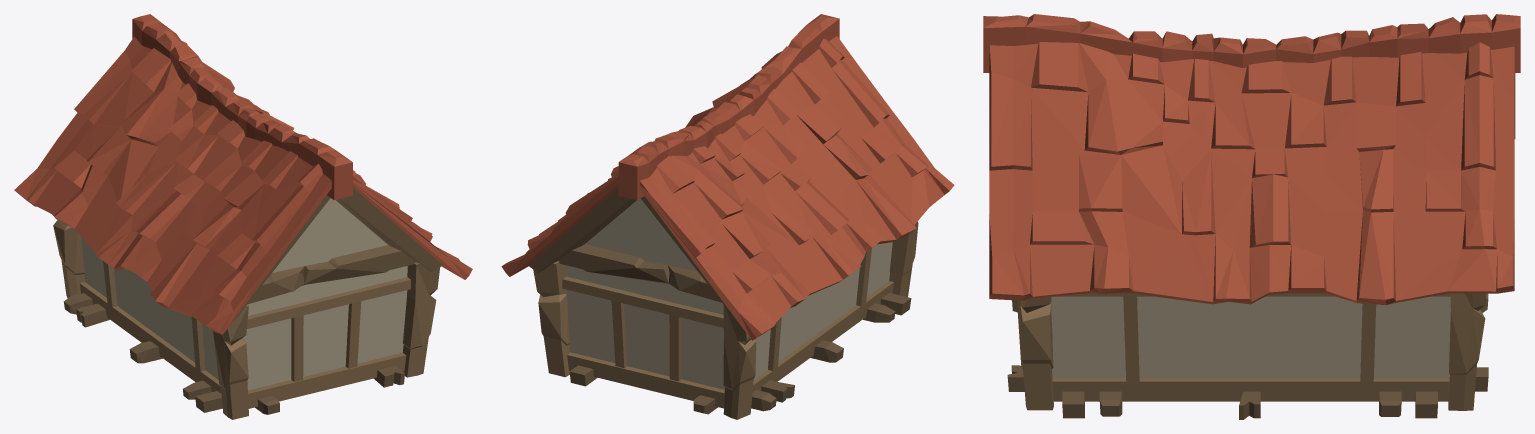
The model's file is SM_Bld_House_RoomTop_07.gltf.
3 renders of one model, left to right at view 1: azimuth 30°, elevation 25°; view 2: azimuth 150°, elevation 25°; view 3: azimuth 270°, elevation 25°, orthographic. The views are drawn at different scales.
Parts seen in each view (by area): view 1: SM_Bld_House_RoomTop_07; view 2: SM_Bld_House_RoomTop_07; view 3: SM_Bld_House_RoomTop_07.
Part boxes in pixels (<box>): SM_Bld_House_RoomTop_07: <box>14,14,472,419</box>; SM_Bld_House_RoomTop_07: <box>501,14,954,419</box>; SM_Bld_House_RoomTop_07: <box>983,14,1520,419</box>.
Size of the model in its own units: 5.43 by 4.65 by 6.86.
1 material, 1 textured.
